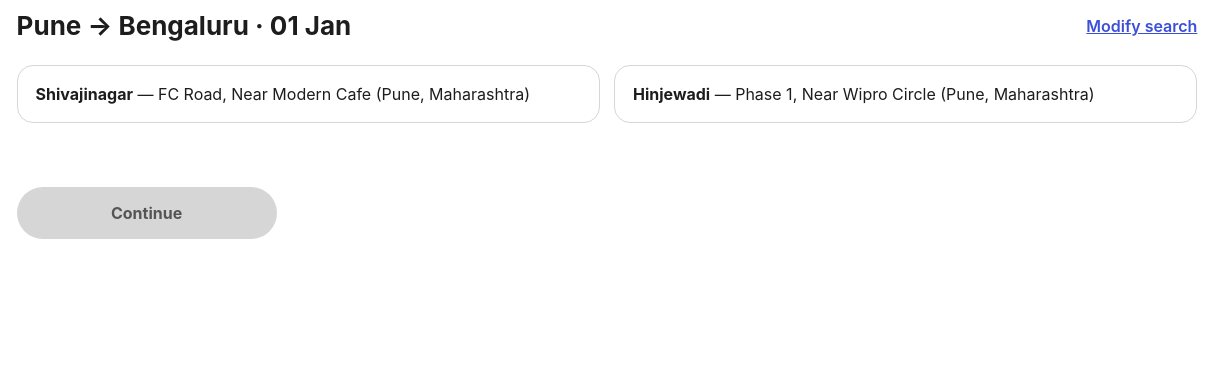
it: ResultsPage boarding point selection › selecting a boarding point highlights it and enables Continue
Click the radio button labelled "Shivajinagar — FC Road, Near Modern Cafe (Pune, Maharashtra)" at (308, 94), box x1=17 y1=65 x2=600 y2=123
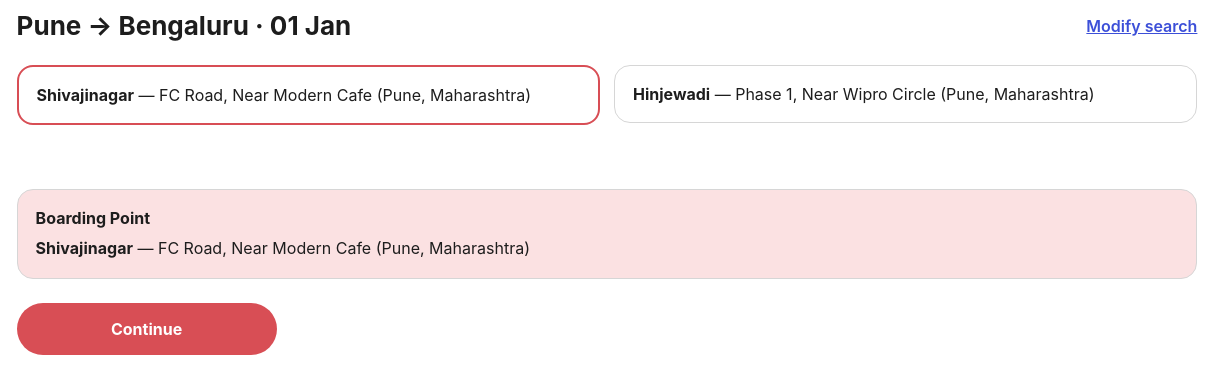
Now the button "Continue" is enabled, box x1=17 y1=303 x2=277 y2=355
Now the element with class "boarding-summary" shows "Shivajinagar", box x1=36 y1=238 x2=133 y2=258
